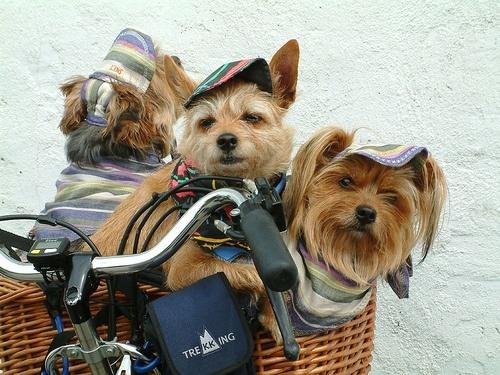bicycle: (1, 188, 299, 375)
dog: (82, 40, 298, 296), (258, 128, 450, 347), (28, 29, 172, 244)
